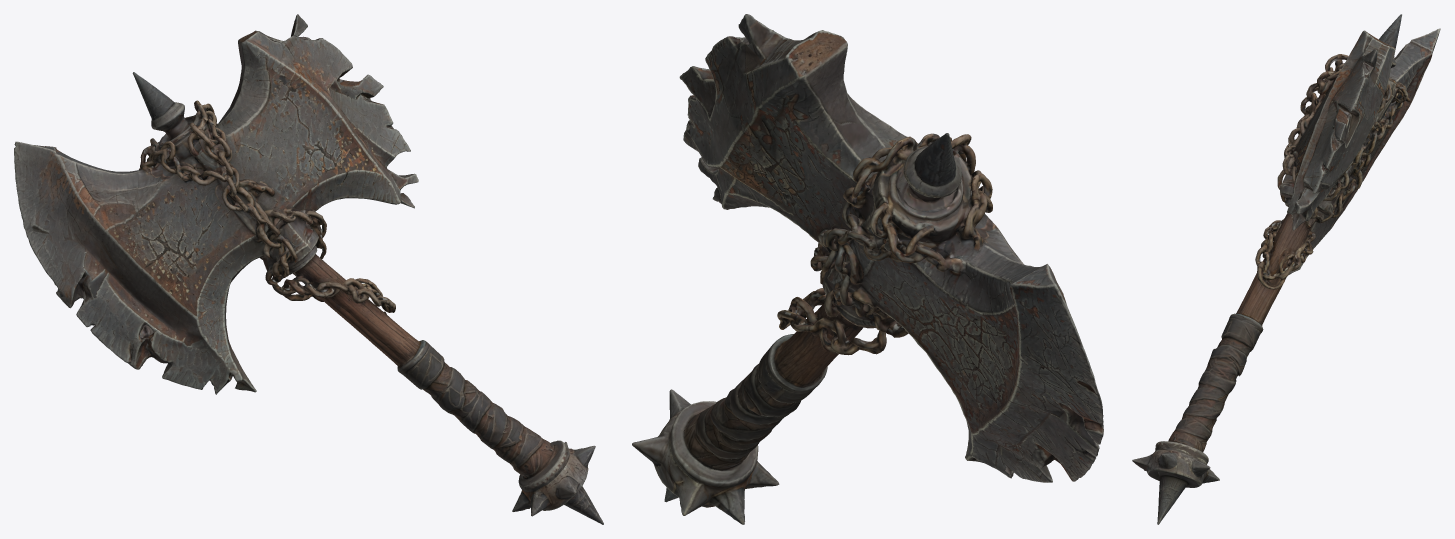
File: OrcAxe.glb
3 renders of one model, left to right at view 1: azimuth 30°, elevation 25°; view 2: azimuth 150°, elevation 25°; view 3: azimuth 270°, elevation 25°, orthographic. The views are drawn at different scales.
Visible parts, largest first — view 1: texture_mapping; view 2: texture_mapping; view 3: texture_mapping.
Boxes of the visible parts, x1=… form: texture_mapping: x1=14, y1=14, x2=603, y2=524; texture_mapping: x1=632, y1=14, x2=1103, y2=524; texture_mapping: x1=1132, y1=14, x2=1440, y2=524.
Bounding box in the file's own units: 0.9782 × 0.9971 × 0.6969.
1 material, 1 textured.
